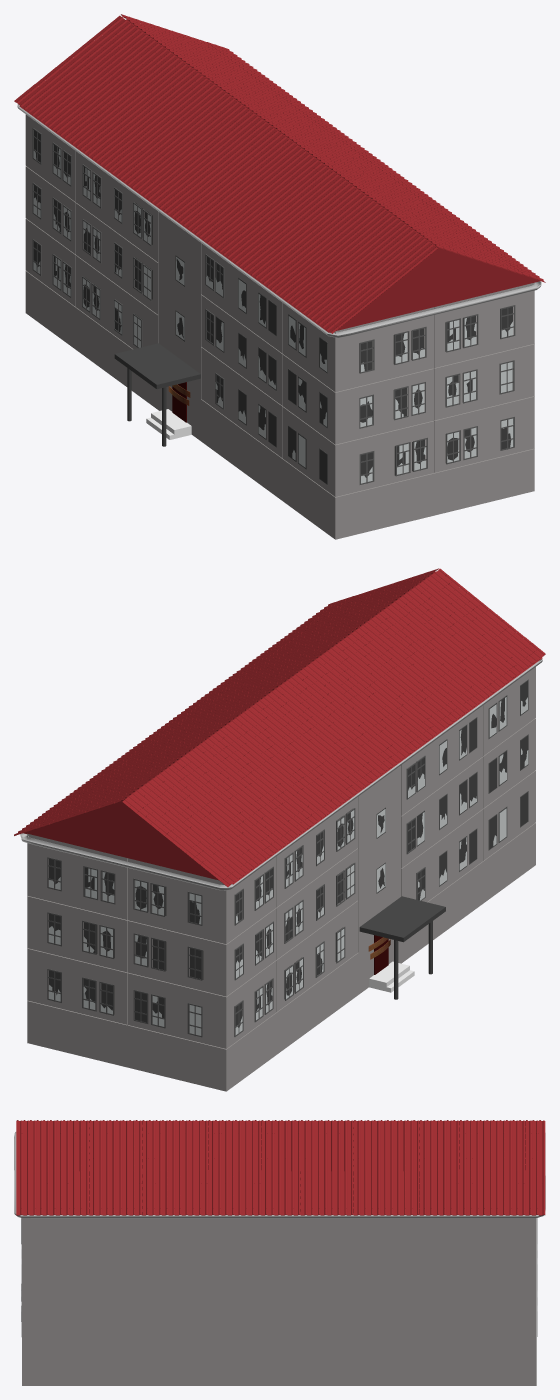
File: BigHouse.fbx
The picture shows the model from 3 angles, top to bottom: view 1: azimuth 30°, elevation 25°; view 2: azimuth 150°, elevation 25°; view 3: azimuth 270°, elevation 25°; orthographic projection. The views are drawn at different scales.
Parts seen in each view (by area): view 1: BigHouse; view 2: BigHouse; view 3: BigHouse.
Boxes of the visible parts, x1=… form: BigHouse: x1=14, y1=14, x2=545, y2=539; BigHouse: x1=14, y1=568, x2=545, y2=1091; BigHouse: x1=14, y1=1120, x2=545, y2=1385.
Bounding box in the file's own units: 904 × 930 × 1988.
